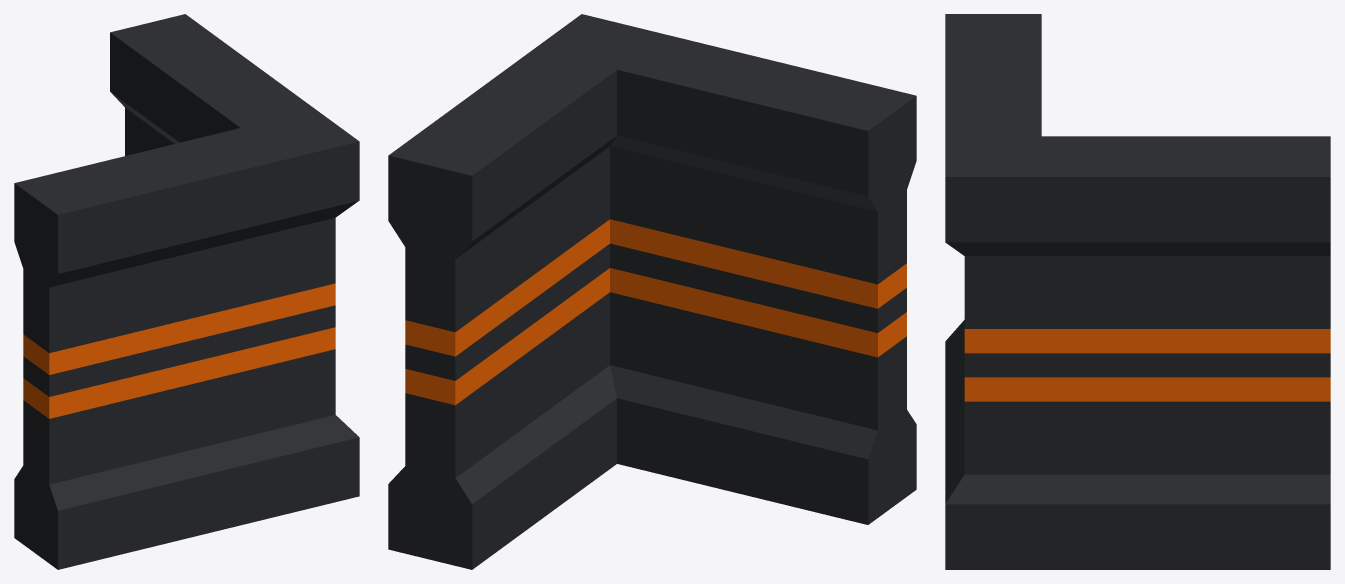
Rendered from Wall_2x2_Corner.fbx.
The picture shows the model from 3 angles, left to right: view 1: azimuth 30°, elevation 25°; view 2: azimuth 150°, elevation 25°; view 3: azimuth 270°, elevation 25°; orthographic projection. The views are drawn at different scales.
Visible parts, largest first — view 1: Wall_2x2_Corner; view 2: Wall_2x2_Corner; view 3: Wall_2x2_Corner.
Part boxes in pixels (x1=…): Wall_2x2_Corner: x1=14, y1=14, x2=359, y2=569; Wall_2x2_Corner: x1=388, y1=14, x2=916, y2=569; Wall_2x2_Corner: x1=945, y1=14, x2=1330, y2=569.
Size of the model in its own units: 200 by 225 by 200.
